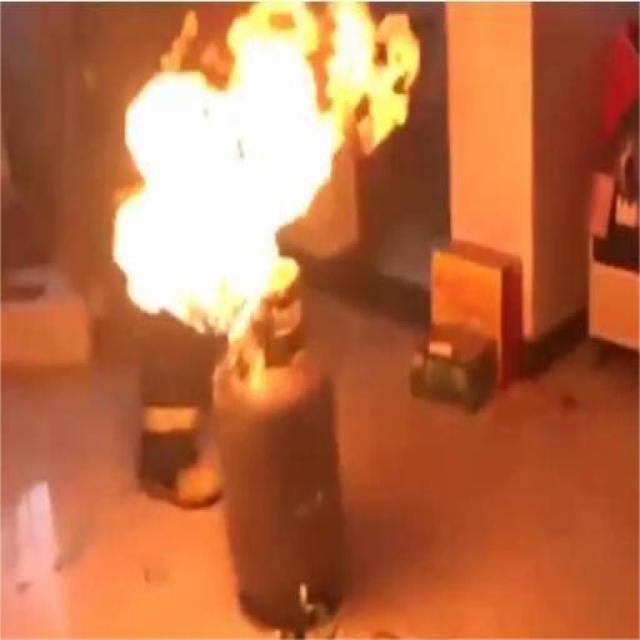Fire: (112, 0, 421, 337)
